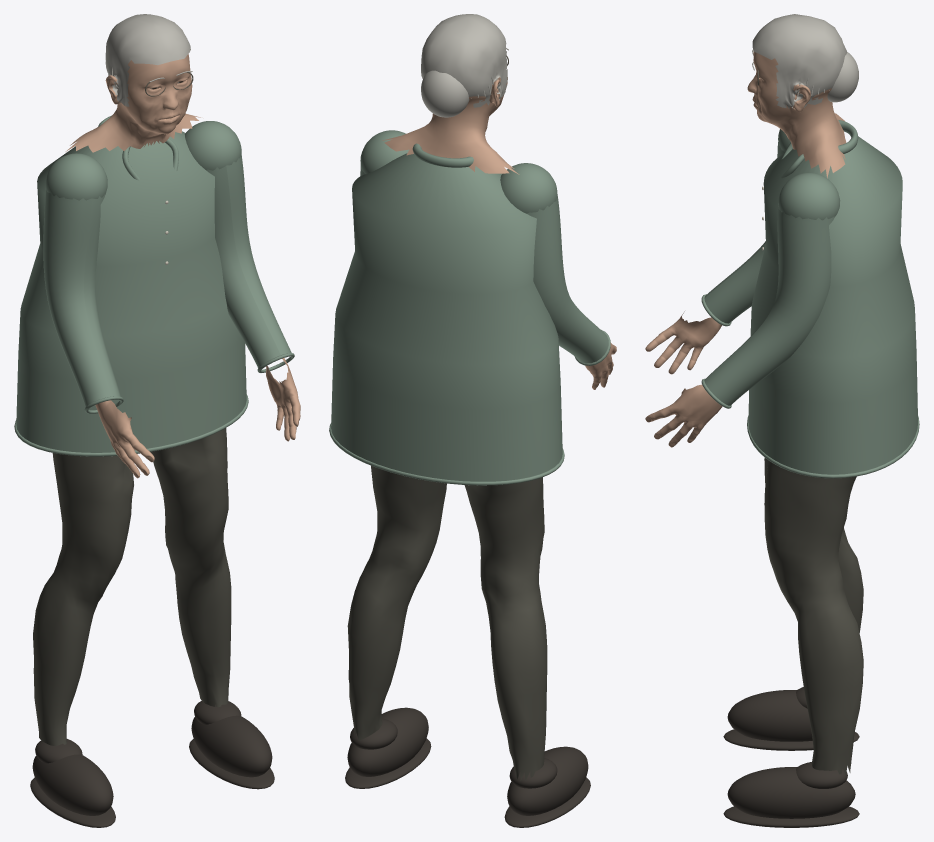
Rendered from elder-woman.glb.
3 renders of one model, left to right at view 1: azimuth 30°, elevation 25°; view 2: azimuth 150°, elevation 25°; view 3: azimuth 270°, elevation 25°, orthographic.
Parts seen in each view (by area): view 1: loose opaque tailored shirt torso, opaque pants, anatomical face neck and articulated fingers, continuous tailored long sleeve r, continuous tailored long sleeve l, scalp fitted hair, fully enclosed leather shoe l, fully enclosed leather shoe r, rounded tailored shoulder cap r, rounded tailored shoulder cap l, solid shoe sole r, solid shoe sole l (+3 smaller); view 2: loose opaque tailored shirt torso, opaque pants, scalp fitted hair, anatomical face neck and articulated fingers, continuous tailored long sleeve r, fully enclosed leather shoe l, fully enclosed leather shoe r, rounded tailored shoulder cap r, silver hair bun, rounded tailored shoulder cap l, solid shoe sole l, solid shoe sole r (+4 smaller); view 3: loose opaque tailored shirt torso, opaque pants, continuous tailored long sleeve l, anatomical face neck and articulated fingers, scalp fitted hair, fully enclosed leather shoe l, fully enclosed leather shoe r, rounded tailored shoulder cap l, continuous tailored long sleeve r, solid shoe sole l, solid shoe sole r, silver hair bun (+2 smaller).
Part boxes in pixels (x1,y1,x2,y2): loose opaque tailored shirt torso: [16, 131, 246, 452]; opaque pants: [33, 428, 231, 745]; anatomical face neck and articulated fingers: [65, 54, 300, 478]; continuous tailored long sleeve r: [43, 189, 120, 406]; continuous tailored long sleeve l: [206, 154, 291, 368]; scalp fitted hair: [105, 14, 190, 106]; fully enclosed leather shoe l: [191, 715, 272, 777]; fully enclosed leather shoe r: [32, 754, 113, 815]; rounded tailored shoulder cap r: [45, 153, 107, 200]; rounded tailored shoulder cap l: [185, 121, 241, 170]; solid shoe sole r: [30, 777, 115, 827]; solid shoe sole l: [189, 739, 274, 789]; loose opaque tailored shirt torso: [331, 153, 562, 481]; opaque pants: [347, 465, 547, 780]; scalp fitted hair: [421, 14, 507, 107]; anatomical face neck and articulated fingers: [382, 77, 616, 389]; continuous tailored long sleeve r: [527, 196, 608, 363]; fully enclosed leather shoe l: [347, 707, 428, 776]; fully enclosed leather shoe r: [507, 746, 588, 815]; rounded tailored shoulder cap r: [500, 163, 557, 213]; silver hair bun: [421, 70, 469, 117]; rounded tailored shoulder cap l: [360, 130, 408, 174]; solid shoe sole l: [345, 738, 431, 788]; solid shoe sole r: [504, 777, 590, 827]; loose opaque tailored shirt torso: [748, 136, 917, 474]; opaque pants: [764, 458, 863, 774]; continuous tailored long sleeve l: [704, 207, 834, 405]; anatomical face neck and articulated fingers: [645, 51, 846, 447]; scalp fitted hair: [752, 14, 846, 108]; fully enclosed leather shoe l: [727, 767, 855, 818]; fully enclosed leather shoe r: [727, 690, 812, 741]; rounded tailored shoulder cap l: [778, 172, 840, 220]; continuous tailored long sleeve r: [704, 142, 784, 323]; solid shoe sole l: [723, 806, 859, 827]; solid shoe sole r: [723, 729, 859, 750]; silver hair bun: [827, 52, 858, 102].
Bounding box in the file's own units: 0.4881 × 1.64 × 0.535.
